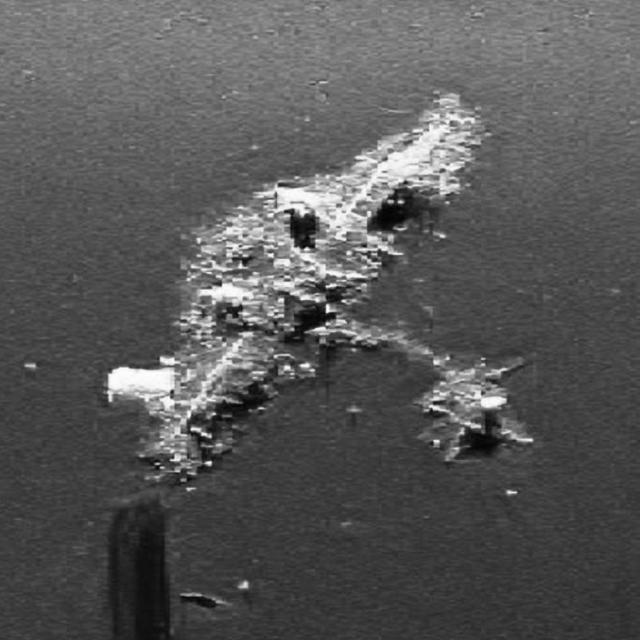plane: (94, 73, 544, 517)
